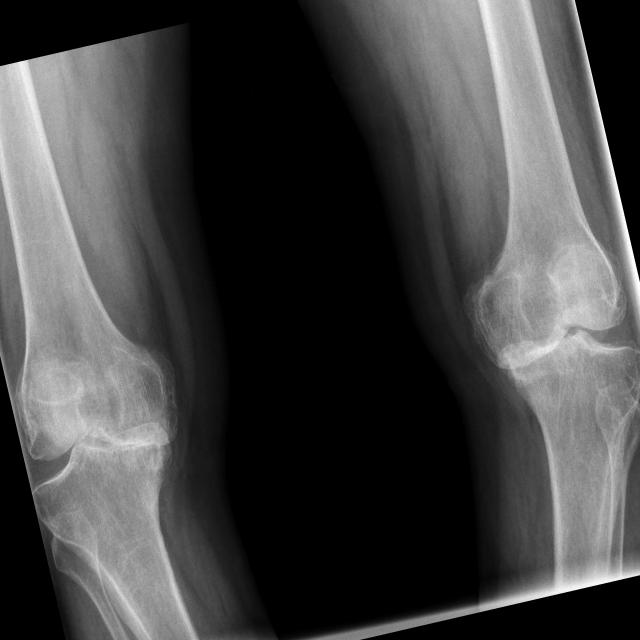Knee: (458, 233, 640, 435), (8, 348, 204, 532)
